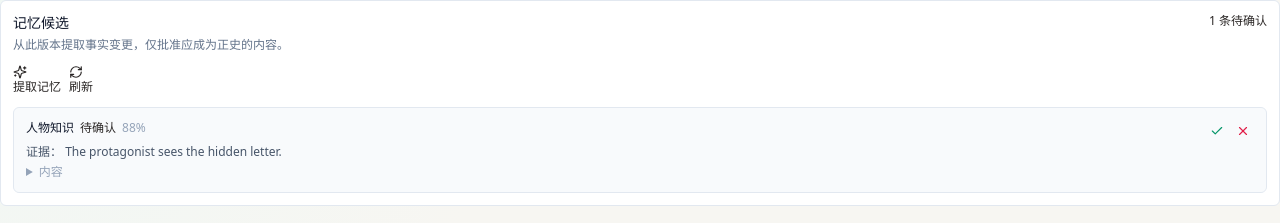
Test: MemoryCandidatePanel › rejected updates a pending candidate, refetches, and invalidates context
Expected: the text "人物知识" is shown, [26,120,74,136]
Click the button named "拒绝记忆候选" at (1243, 131), box [1232,120,1254,142]
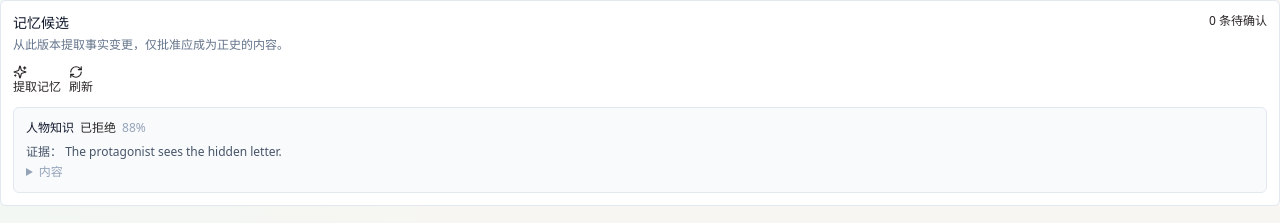
Result: the text "已拒绝" is shown at [80,120,116,136]
Result: the button labelled "批准记忆候选" is gone
Result: the button labelled "拒绝记忆候选" is gone
